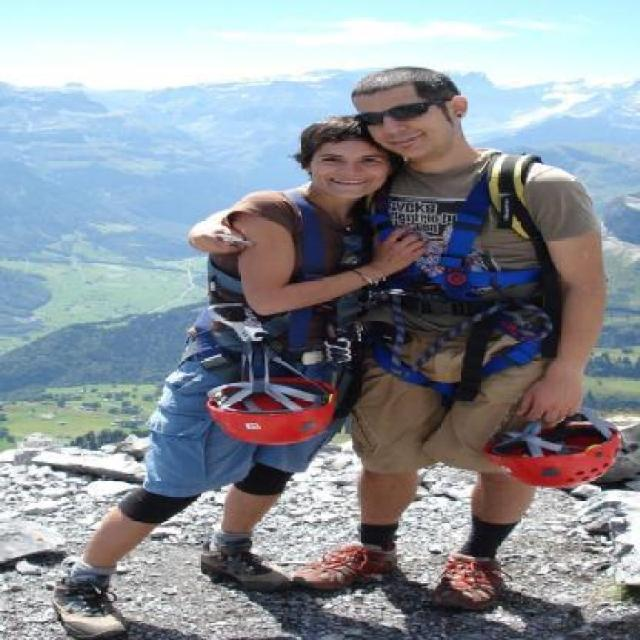backpack: (475, 146, 537, 245)
